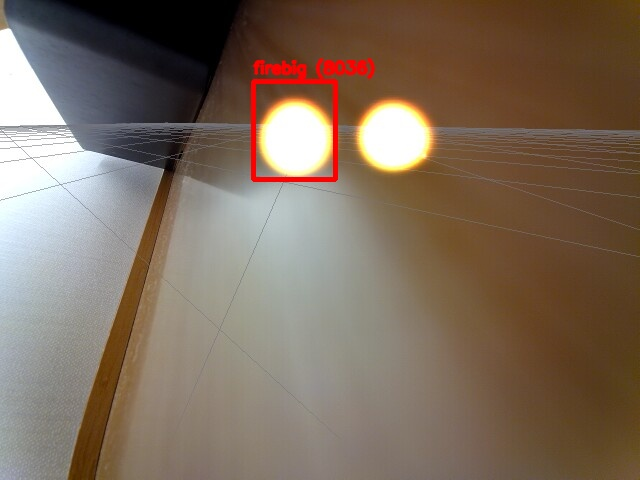firebig: (253, 81, 335, 179)
